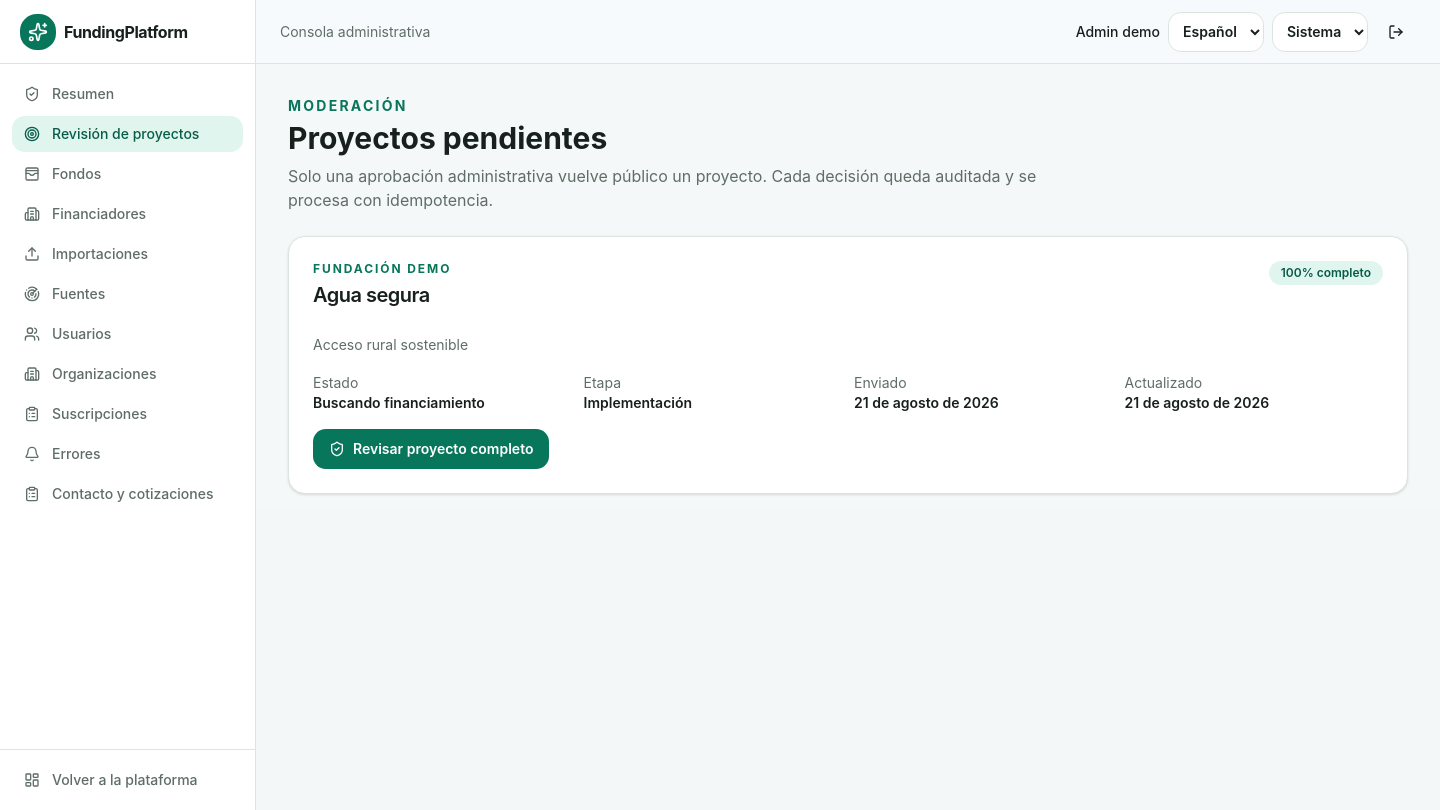
proyectos › permite a un administrador aprobar desde la cola de revisión
This screenshot has width=1440, height=810.
Expected: the heading "Agua segura" is shown, x1=313 y1=283 x2=430 y2=307
Step 1. Click the link "Revisar proyecto completo" → (431, 449), box x1=313 y1=429 x2=550 y2=469
(page scrolled)
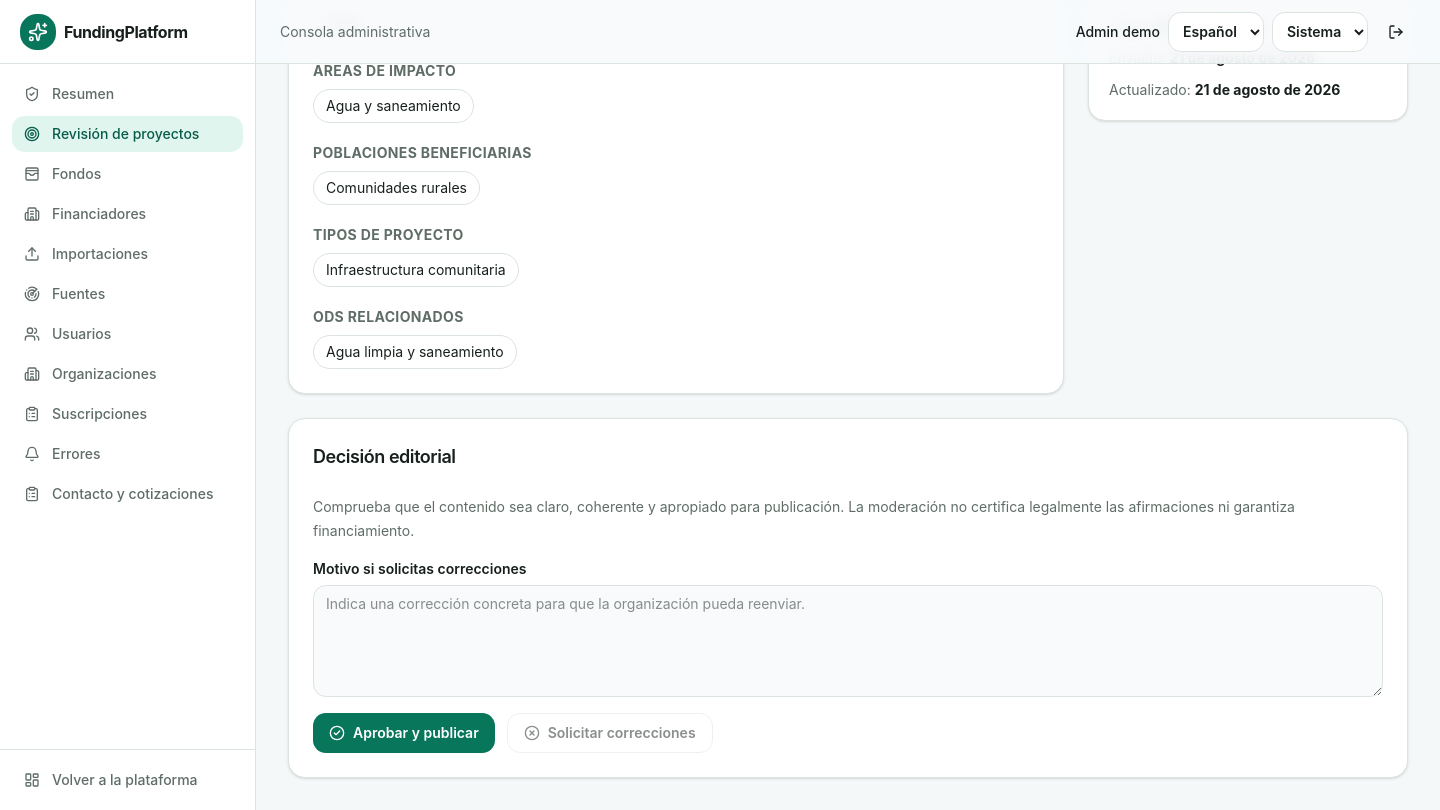
Expected: the text "Etapa: Implementación" is shown, x1=1109 y1=17 x2=1265 y2=34
Expected: the heading "ODS relacionados" is shown, x1=313 y1=308 x2=464 y2=325
Expected: the text "Agua limpia y saneamiento" is shown, x1=313 y1=335 x2=516 y2=369
Step 2. Click the button "Aprobar y publicar" → (404, 733), box x1=313 y1=713 x2=495 y2=753
(page scrolled)
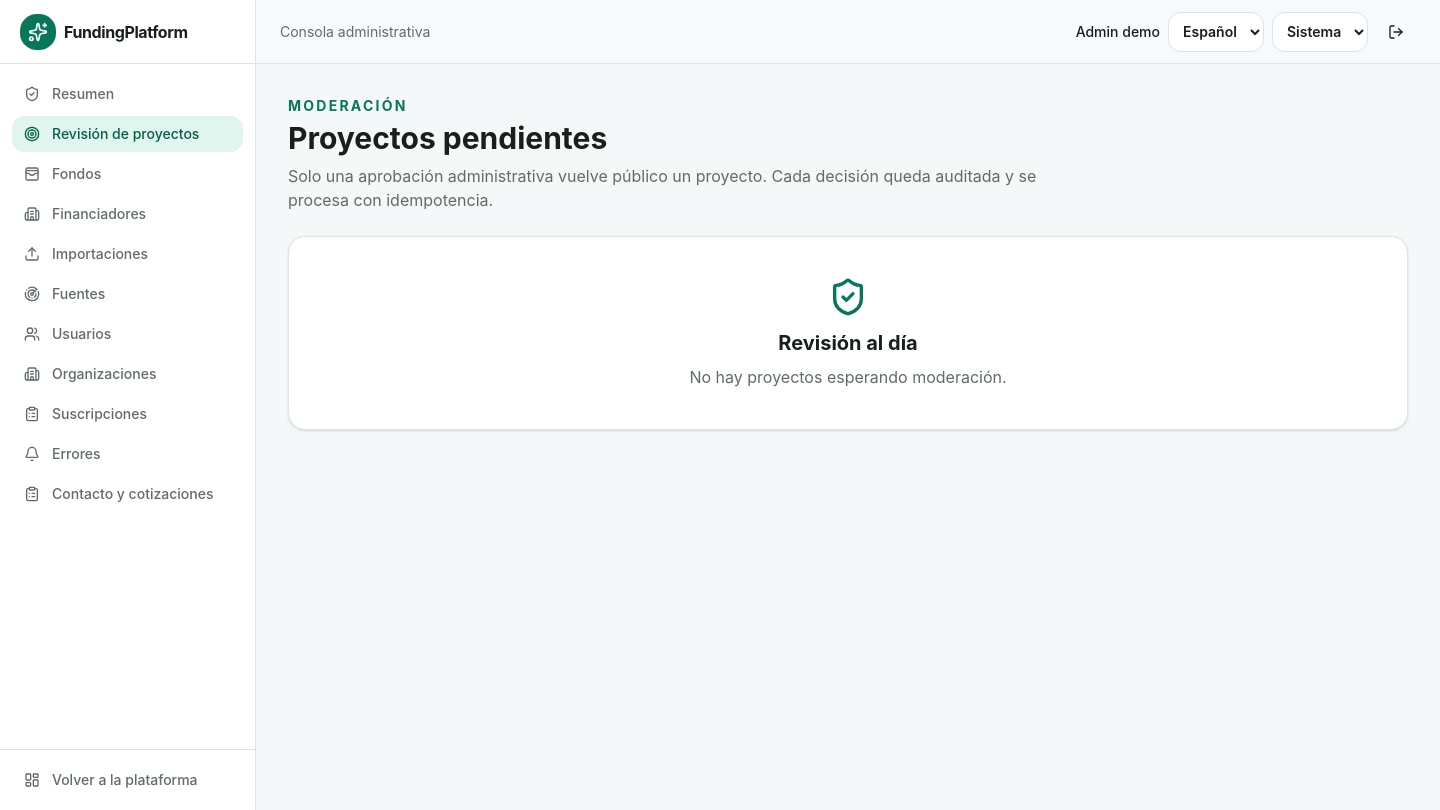
Expected: the heading "Revisión al día" is shown, x1=778 y1=331 x2=918 y2=355
